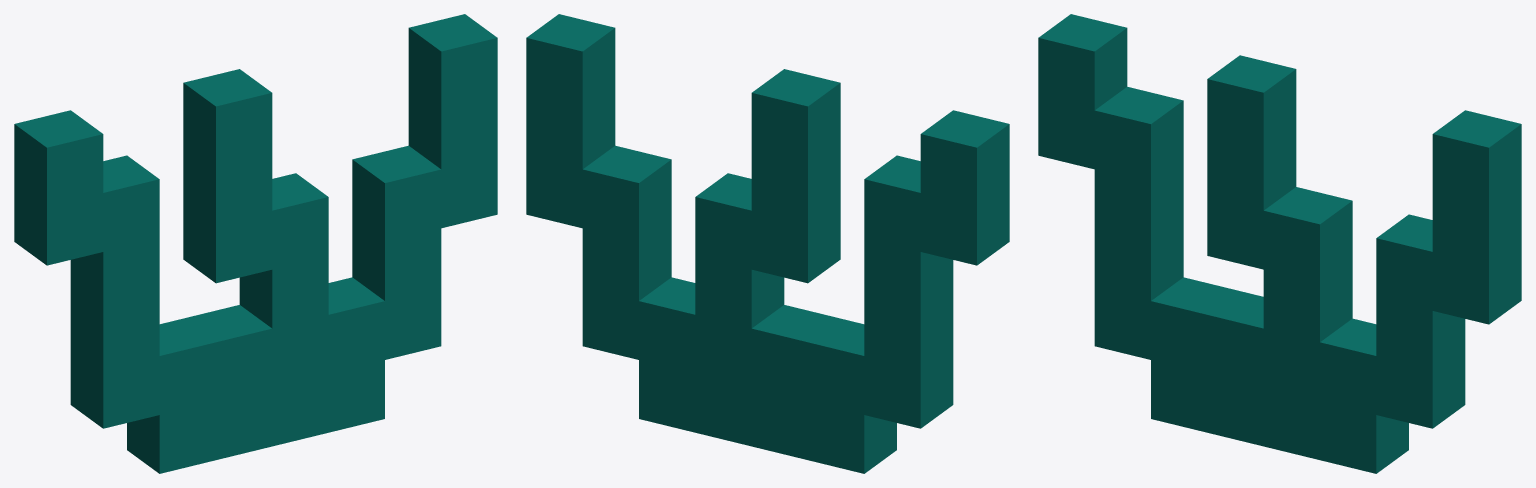
Rendered from grass-02.glb.
The picture shows the model from 3 angles, left to right: view 1: azimuth 30°, elevation 25°; view 2: azimuth 150°, elevation 25°; view 3: azimuth 330°, elevation 25°; orthographic projection.
Visible parts, largest first — view 1: generated(Clone); view 2: generated(Clone); view 3: generated(Clone).
Boxes of the visible parts, x1=… form: generated(Clone): x1=14, y1=14, x2=497, y2=473; generated(Clone): x1=526, y1=14, x2=1009, y2=473; generated(Clone): x1=1038, y1=14, x2=1521, y2=473.
Size of the model in its own units: 8 by 6 by 1.
1 material, 1 textured.
